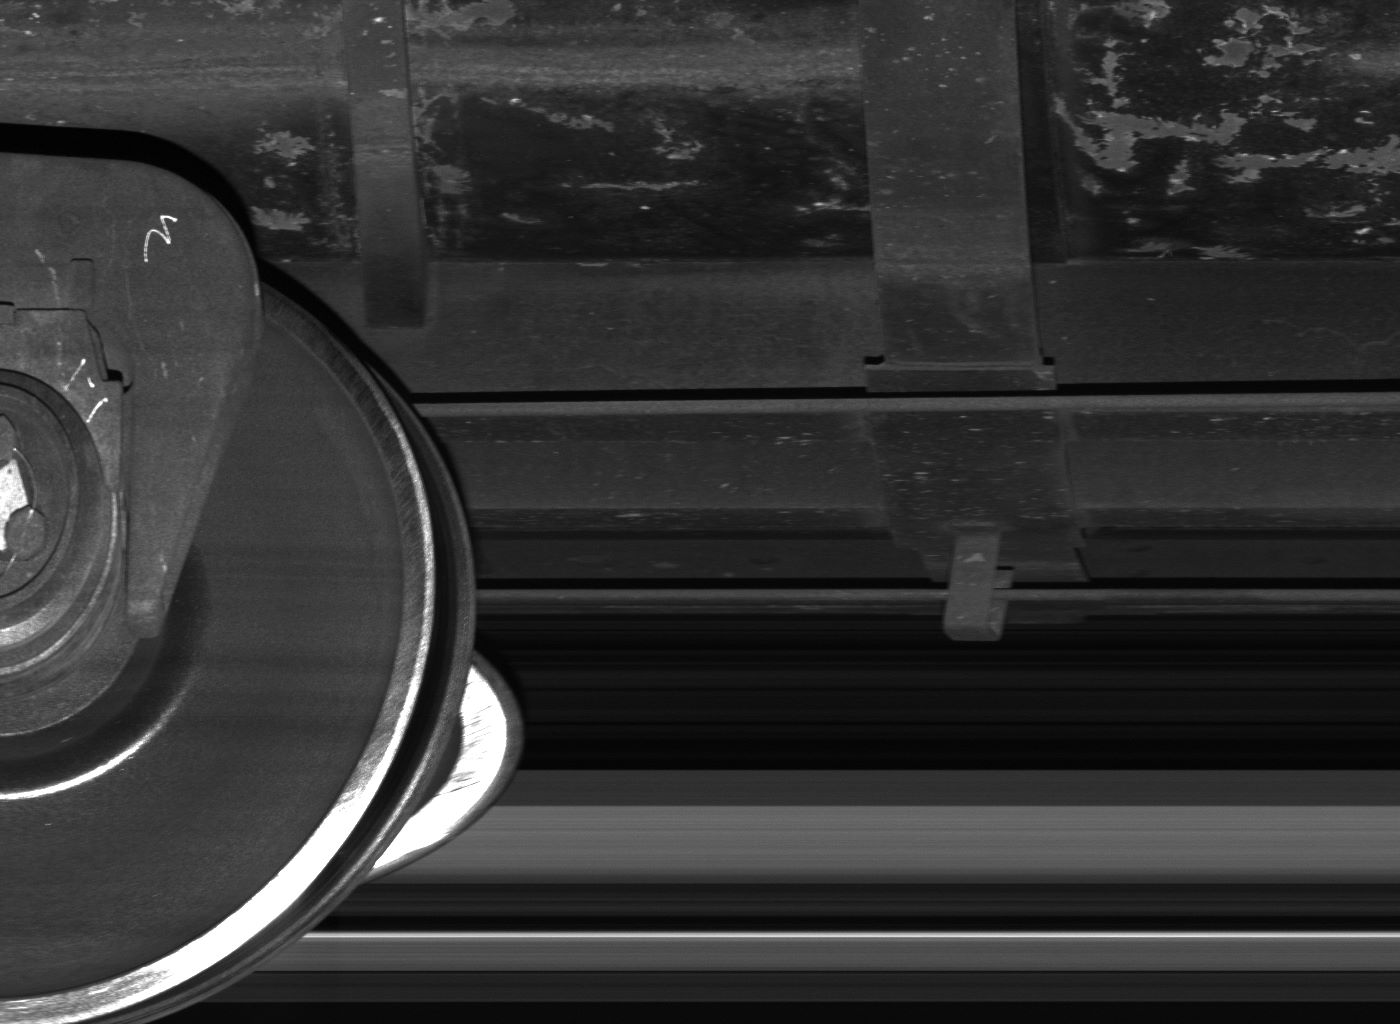normal: (942, 534, 1012, 642)
